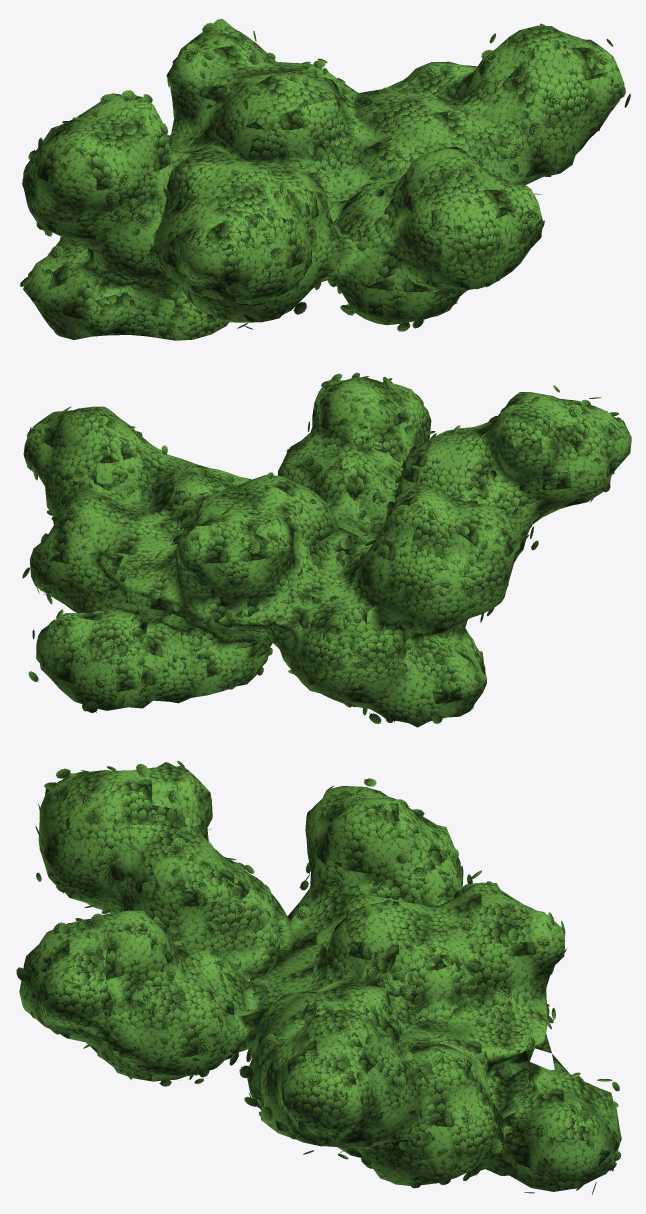
The model's file is moundbush_v2.glb.
3 views of the same model, one above another, from view 1: azimuth 30°, elevation 25°; view 2: azimuth 150°, elevation 25°; view 3: azimuth 270°, elevation 25° (orthographic). The views are drawn at different scales.
Visible parts, largest first — view 1: moundbush_v2_volume_LOD0, moundbush_v2_leaves_LOD0; view 2: moundbush_v2_volume_LOD0, moundbush_v2_leaves_LOD0; view 3: moundbush_v2_volume_LOD0, moundbush_v2_leaves_LOD0.
Part boxes in pixels (box(x1,y1,x2,y2)): moundbush_v2_volume_LOD0: box(22, 18, 624, 340); moundbush_v2_leaves_LOD0: box(20, 22, 630, 337); moundbush_v2_volume_LOD0: box(23, 377, 631, 727); moundbush_v2_leaves_LOD0: box(22, 372, 625, 725); moundbush_v2_volume_LOD0: box(19, 762, 621, 1191); moundbush_v2_leaves_LOD0: box(16, 760, 621, 1194).
Size of what is drawn, in the model's own units: 2.88 by 1.29 by 2.62.
Materials: 2 (2 with a texture image).
